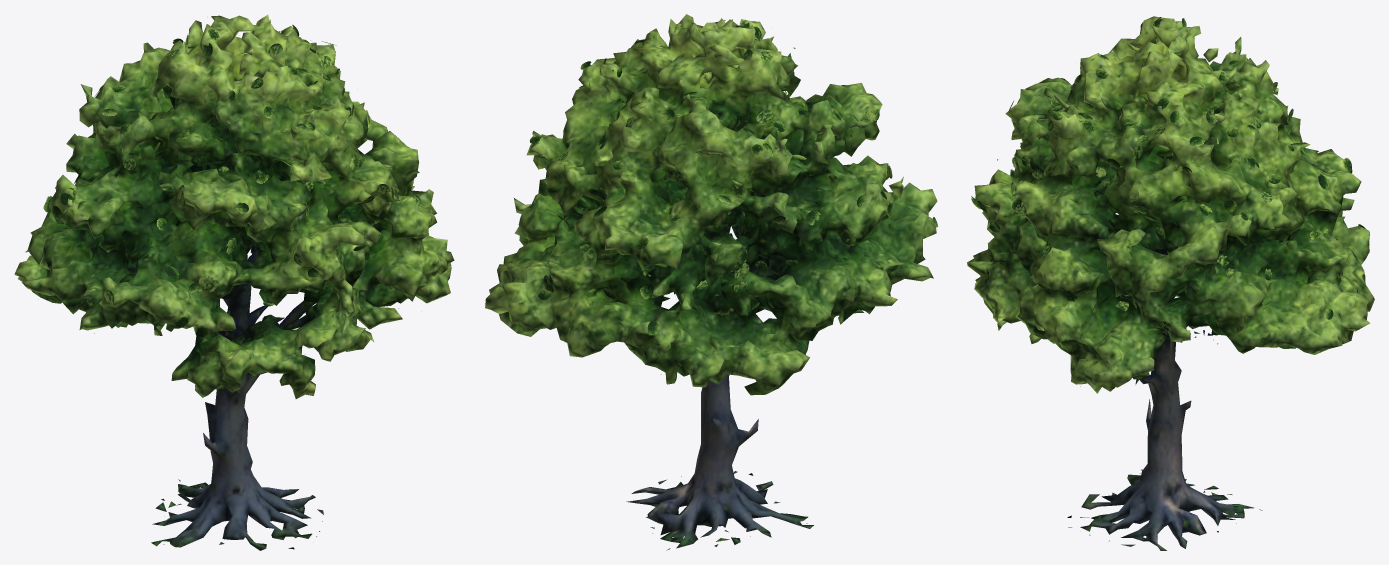
The model's file is ancient-guardian-broadleaf-under-20k.glb.
3 renders of one model, left to right at view 1: azimuth 30°, elevation 25°; view 2: azimuth 150°, elevation 25°; view 3: azimuth 270°, elevation 25°, orthographic. The views are drawn at different scales.
Parts seen in each view (by area): view 1: Guardian crown volume, Guardian woody volume, Guardian small leaf fringe; view 2: Guardian crown volume, Guardian woody volume, Guardian small leaf fringe; view 3: Guardian crown volume, Guardian woody volume, Guardian small leaf fringe.
Boxes of the visible parts, box(x1,y1,x2,y2) form: Guardian crown volume: box(15, 14, 454, 384); Guardian woody volume: box(14, 15, 450, 550); Guardian small leaf fringe: box(43, 22, 422, 337); Guardian crown volume: box(485, 14, 937, 387); Guardian woody volume: box(497, 18, 936, 550); Guardian small leaf fringe: box(508, 19, 937, 335); Guardian crown volume: box(967, 16, 1374, 393); Guardian woody volume: box(967, 17, 1367, 550); Guardian small leaf fringe: box(971, 17, 1365, 333).
Size of the model in its own units: 1.54 by 1.88 by 1.43.
Materials: 3 (3 with a texture image).
